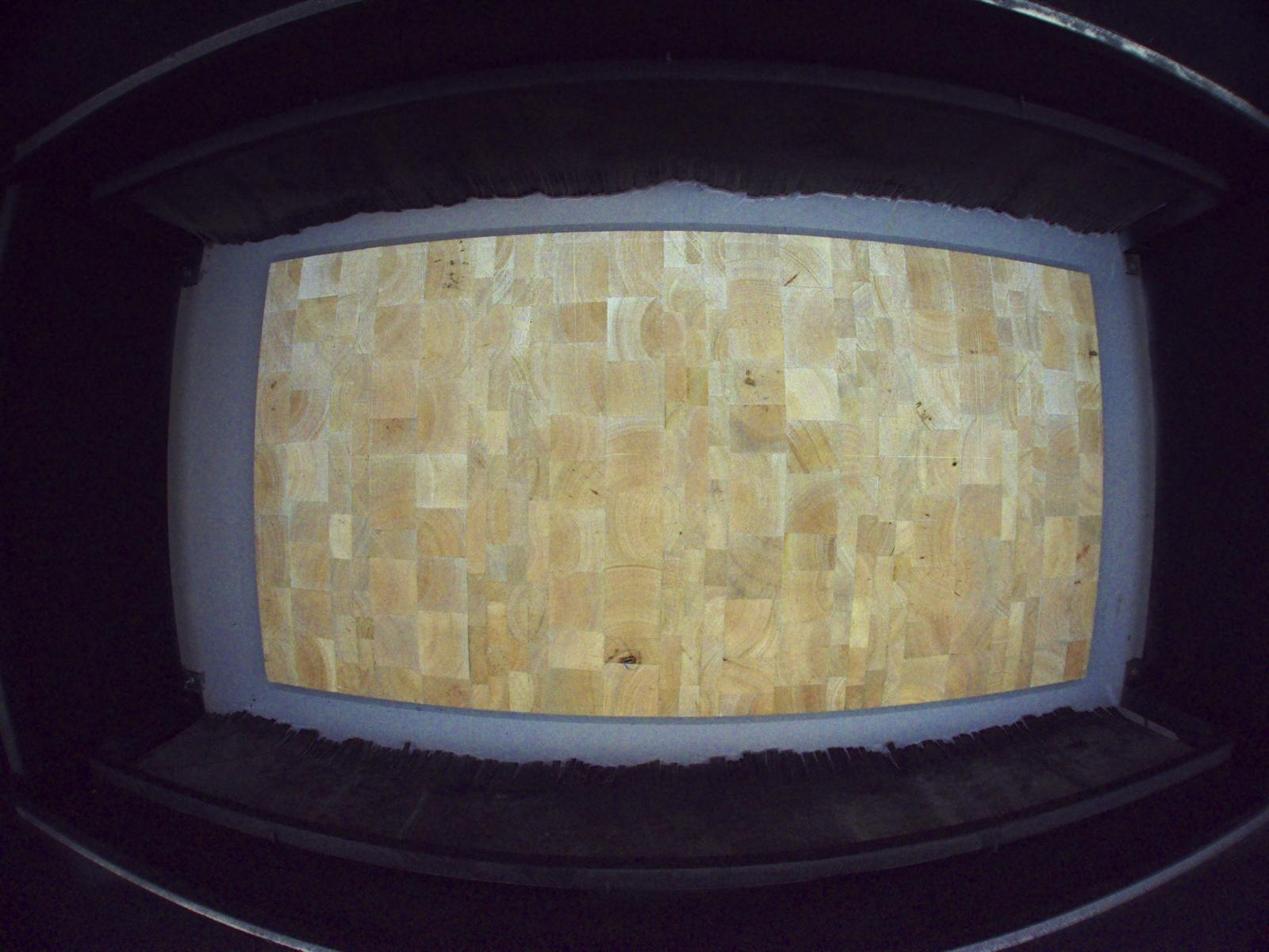nudillo: (605, 648, 643, 673)
sheck_ecuatoriano: (1088, 329, 1099, 379)
